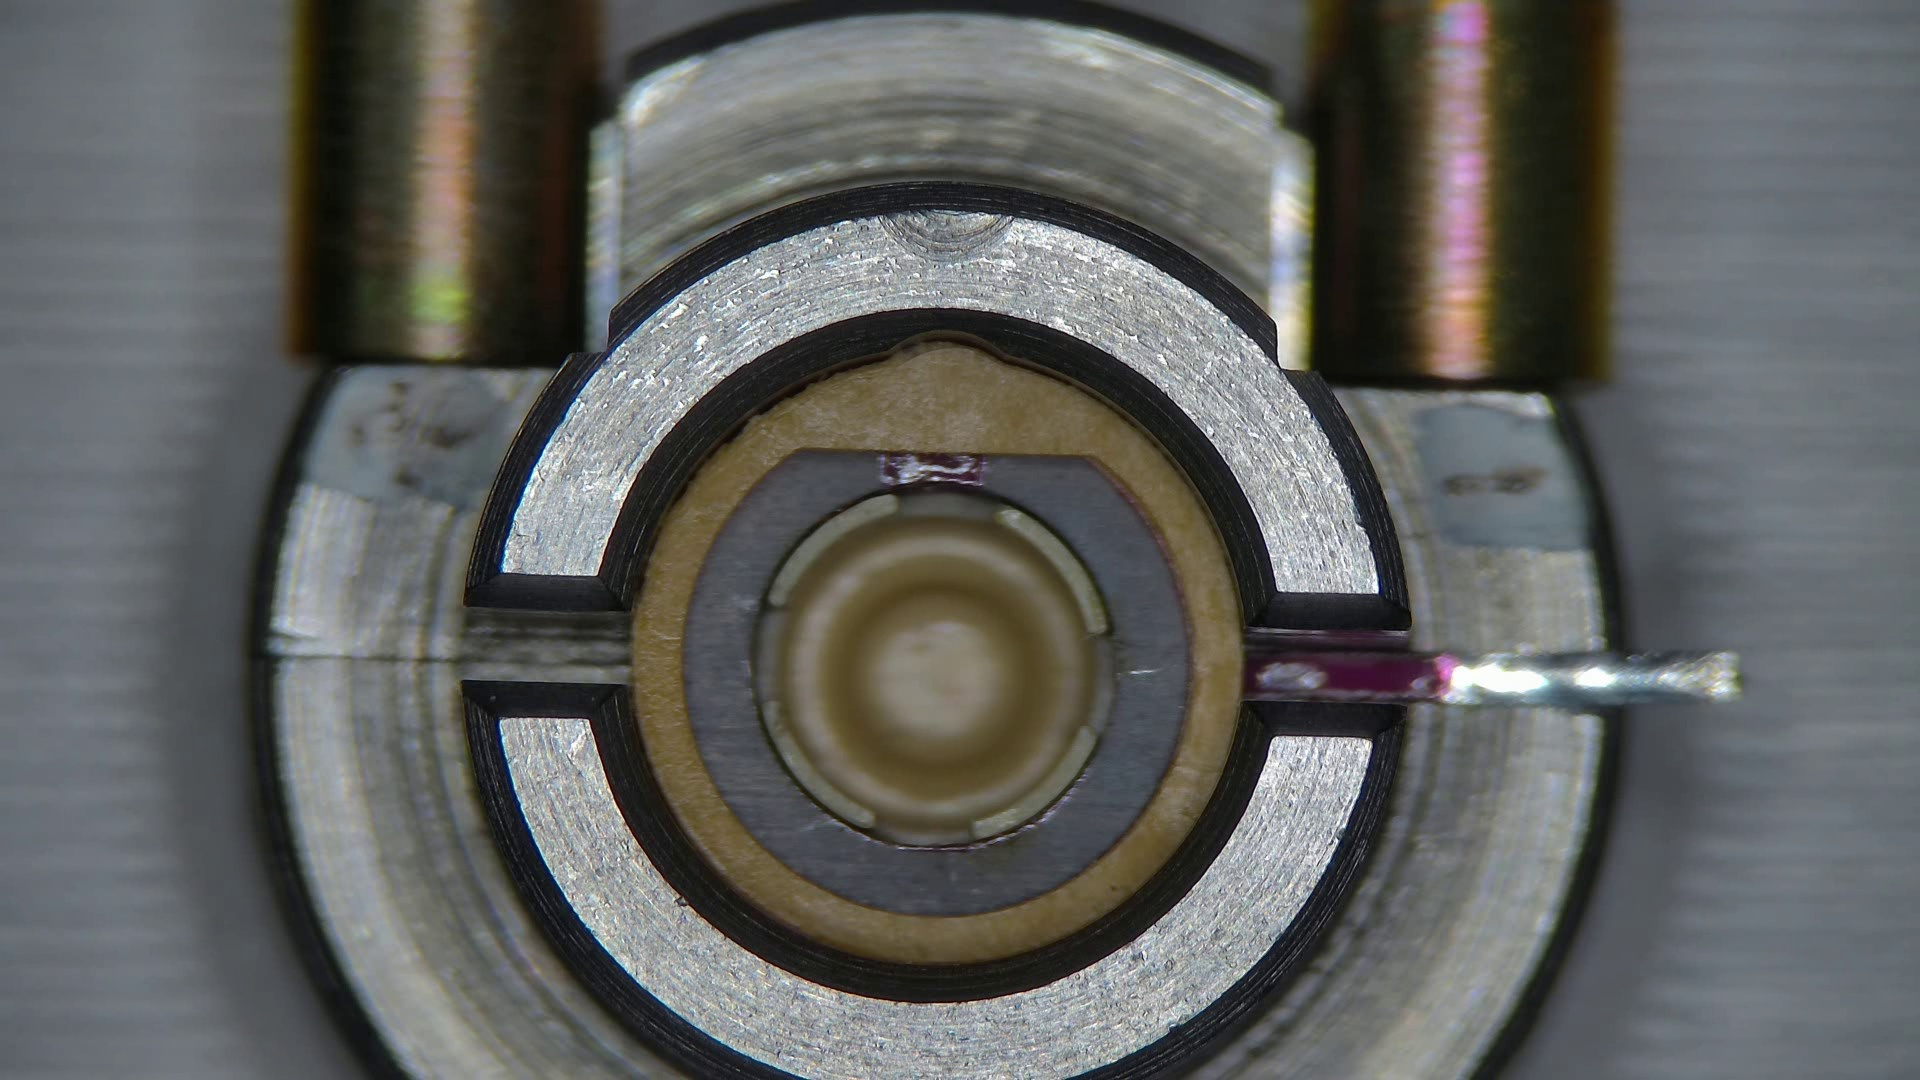YellowOring: (684, 451, 1188, 916)
redOring: (632, 344, 1246, 963)
